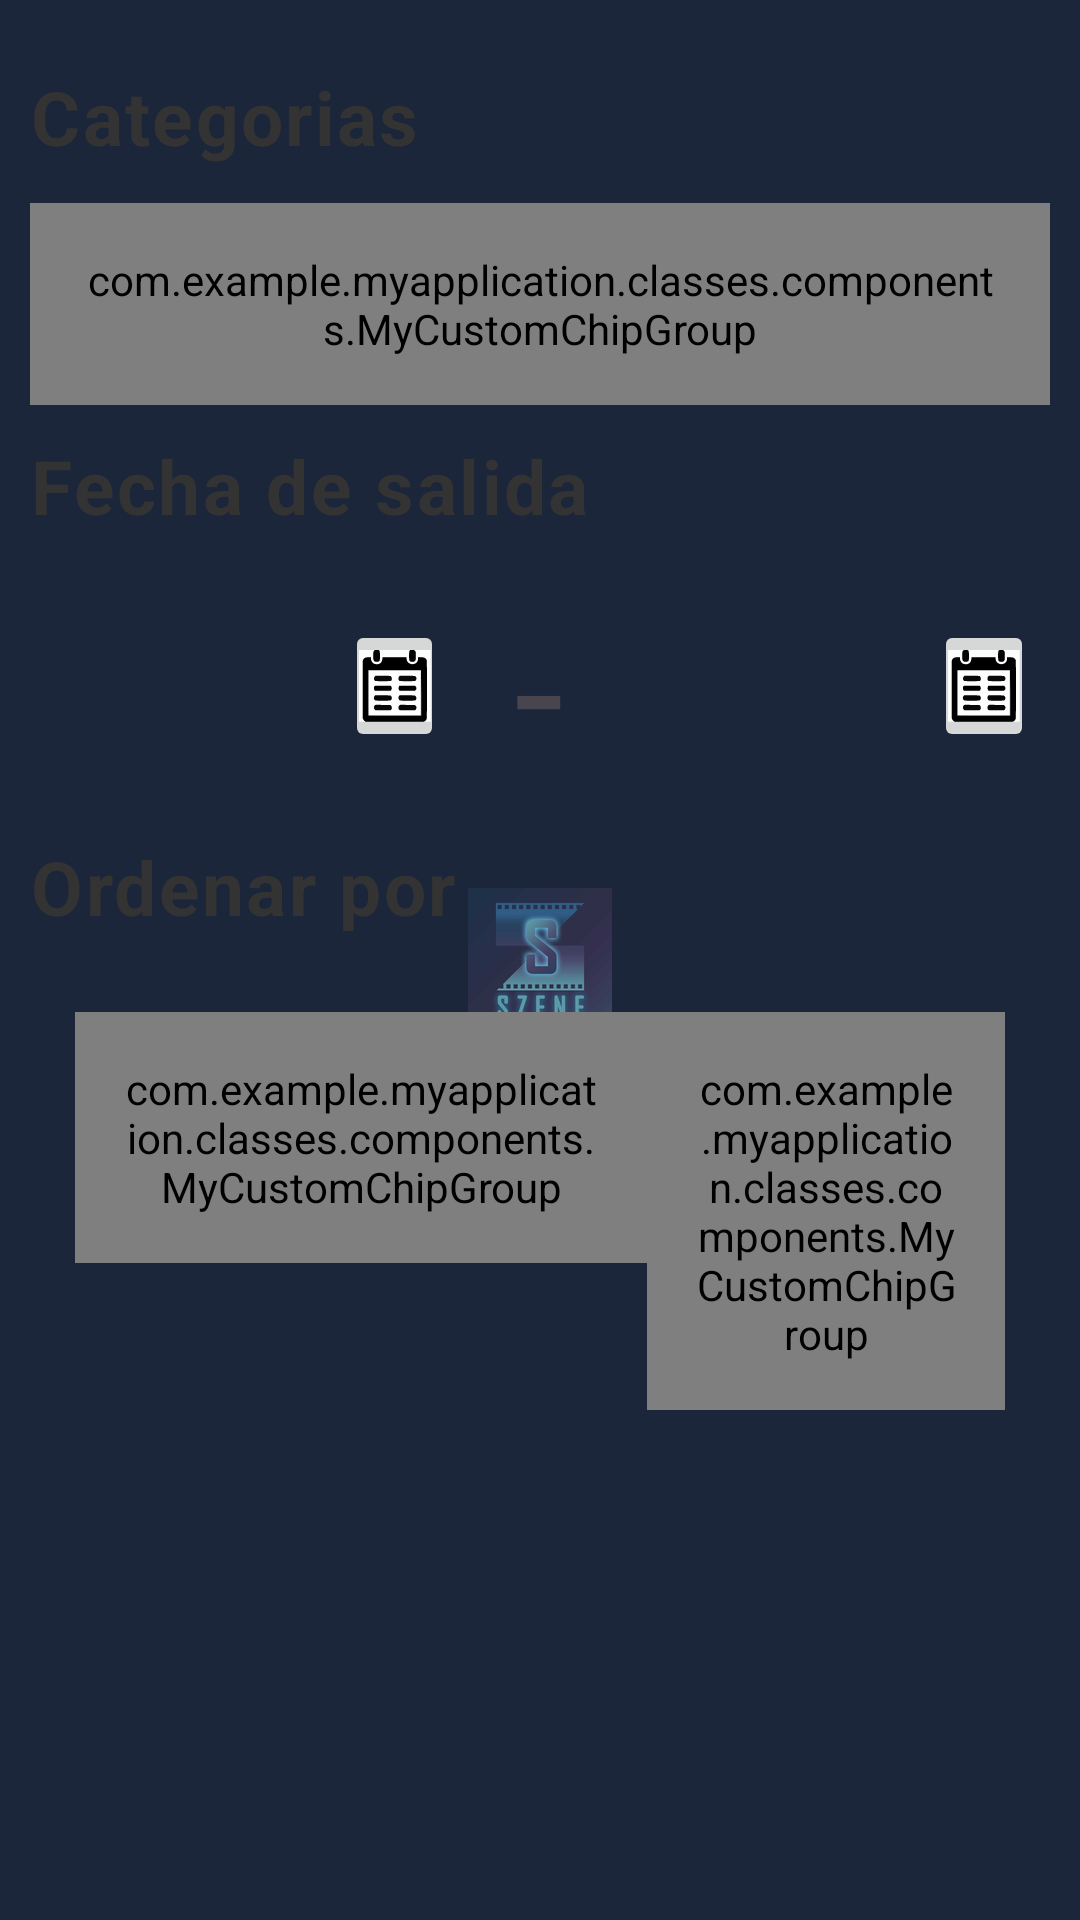

Where to tap for icons on this 1080px x 1920px app screen, as [x,y]:
calendar: [394,686], [984,686]
